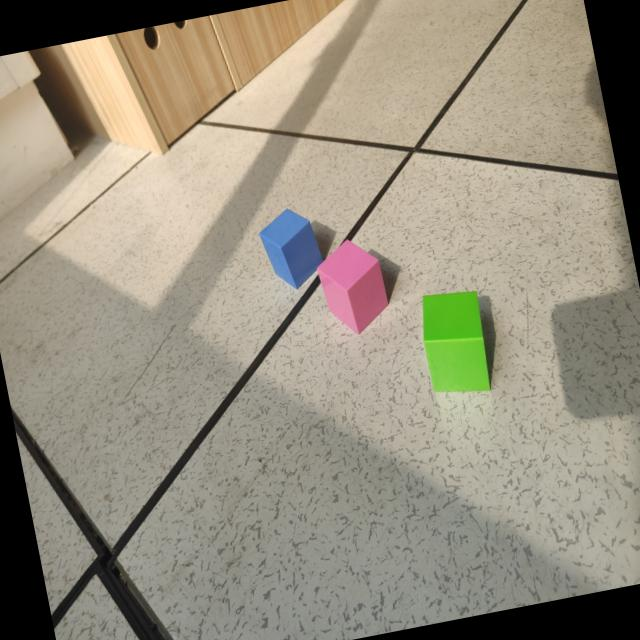blue: (258, 210, 334, 293)
green: (422, 292, 495, 394)
pink: (317, 241, 401, 336)
